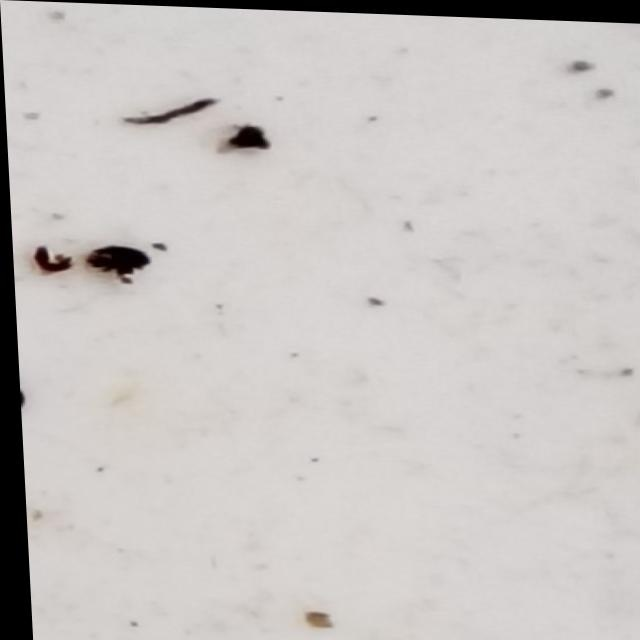varroa: (81, 242, 150, 276)
